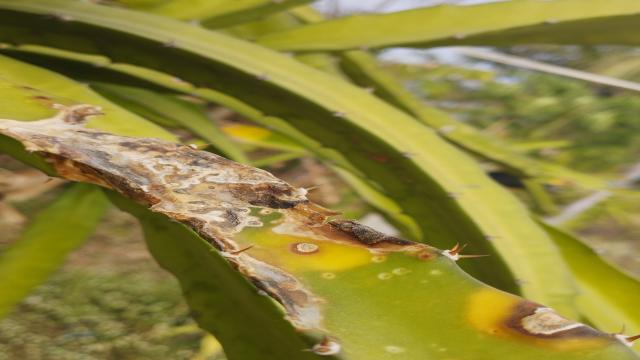stemcanker: (356, 250, 437, 292), (375, 329, 462, 359), (302, 264, 350, 298), (273, 237, 327, 263)
